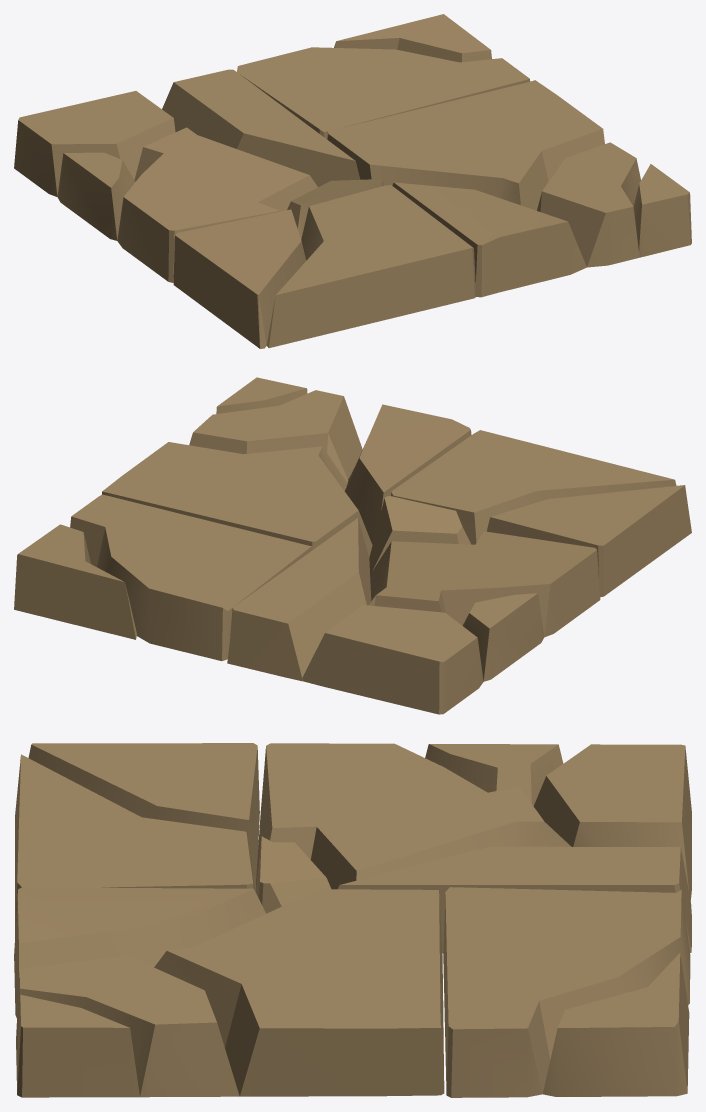
The model's file is FloorTile_Broken.fbx.
The picture shows the model from 3 angles, top to bottom: view 1: azimuth 30°, elevation 25°; view 2: azimuth 150°, elevation 25°; view 3: azimuth 270°, elevation 25°; orthographic projection. The views are drawn at different scales.
Parts seen in each view (by area): view 1: FloorTile_Broken; view 2: FloorTile_Broken; view 3: FloorTile_Broken.
Boxes of the visible parts, x1=… form: FloorTile_Broken: x1=14, y1=14, x2=691, y2=348; FloorTile_Broken: x1=14, y1=377, x2=691, y2=714; FloorTile_Broken: x1=14, y1=743, x2=691, y2=1097.
Bounding box in the file's own units: 2 × 0.2425 × 2.
